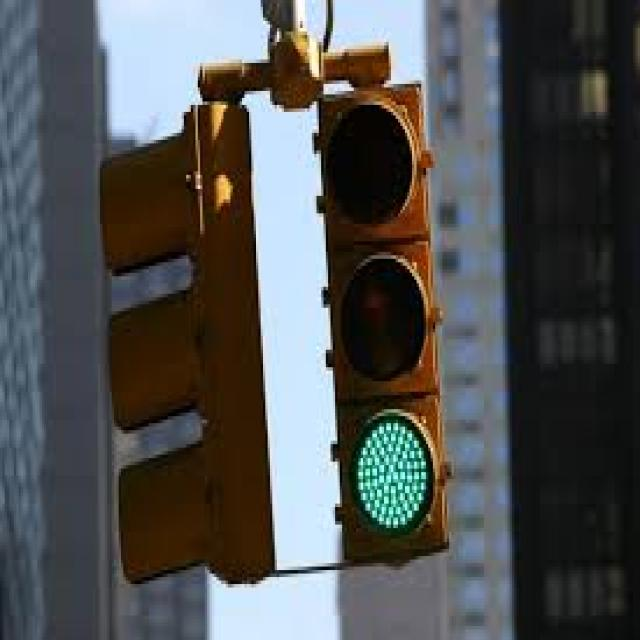green: (322, 97, 449, 550)
